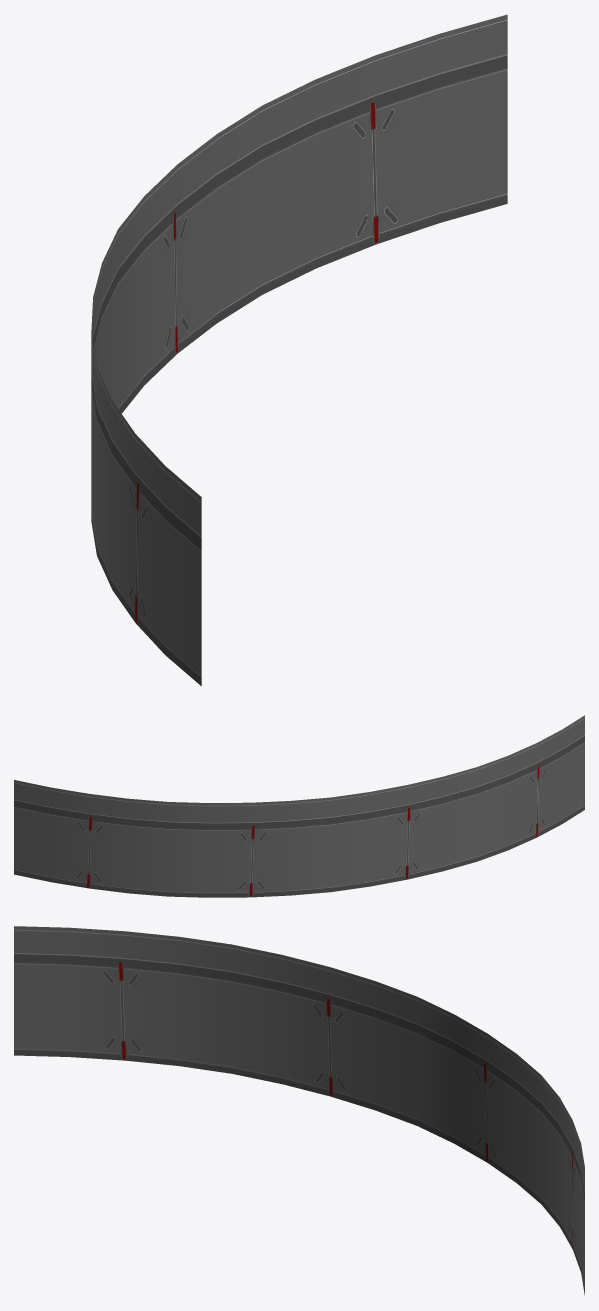
File: short_wall_simple2_corner_inner.glb
3 views of the same model, one above another, from view 1: azimuth 30°, elevation 25°; view 2: azimuth 150°, elevation 25°; view 3: azimuth 270°, elevation 25° (orthographic). The views are drawn at different scales.
Visible parts, largest first — view 1: ShortWall_Simple2_Corner_Inner; view 2: ShortWall_Simple2_Corner_Inner; view 3: ShortWall_Simple2_Corner_Inner.
Part boxes in pixels (x1=…): ShortWall_Simple2_Corner_Inner: x1=91, y1=14, x2=507, y2=685; ShortWall_Simple2_Corner_Inner: x1=14, y1=715, x2=584, y2=897; ShortWall_Simple2_Corner_Inner: x1=14, y1=926, x2=584, y2=1295.
Bounding box in the file's own units: 4 × 1 × 4.
1 material, 1 textured.
